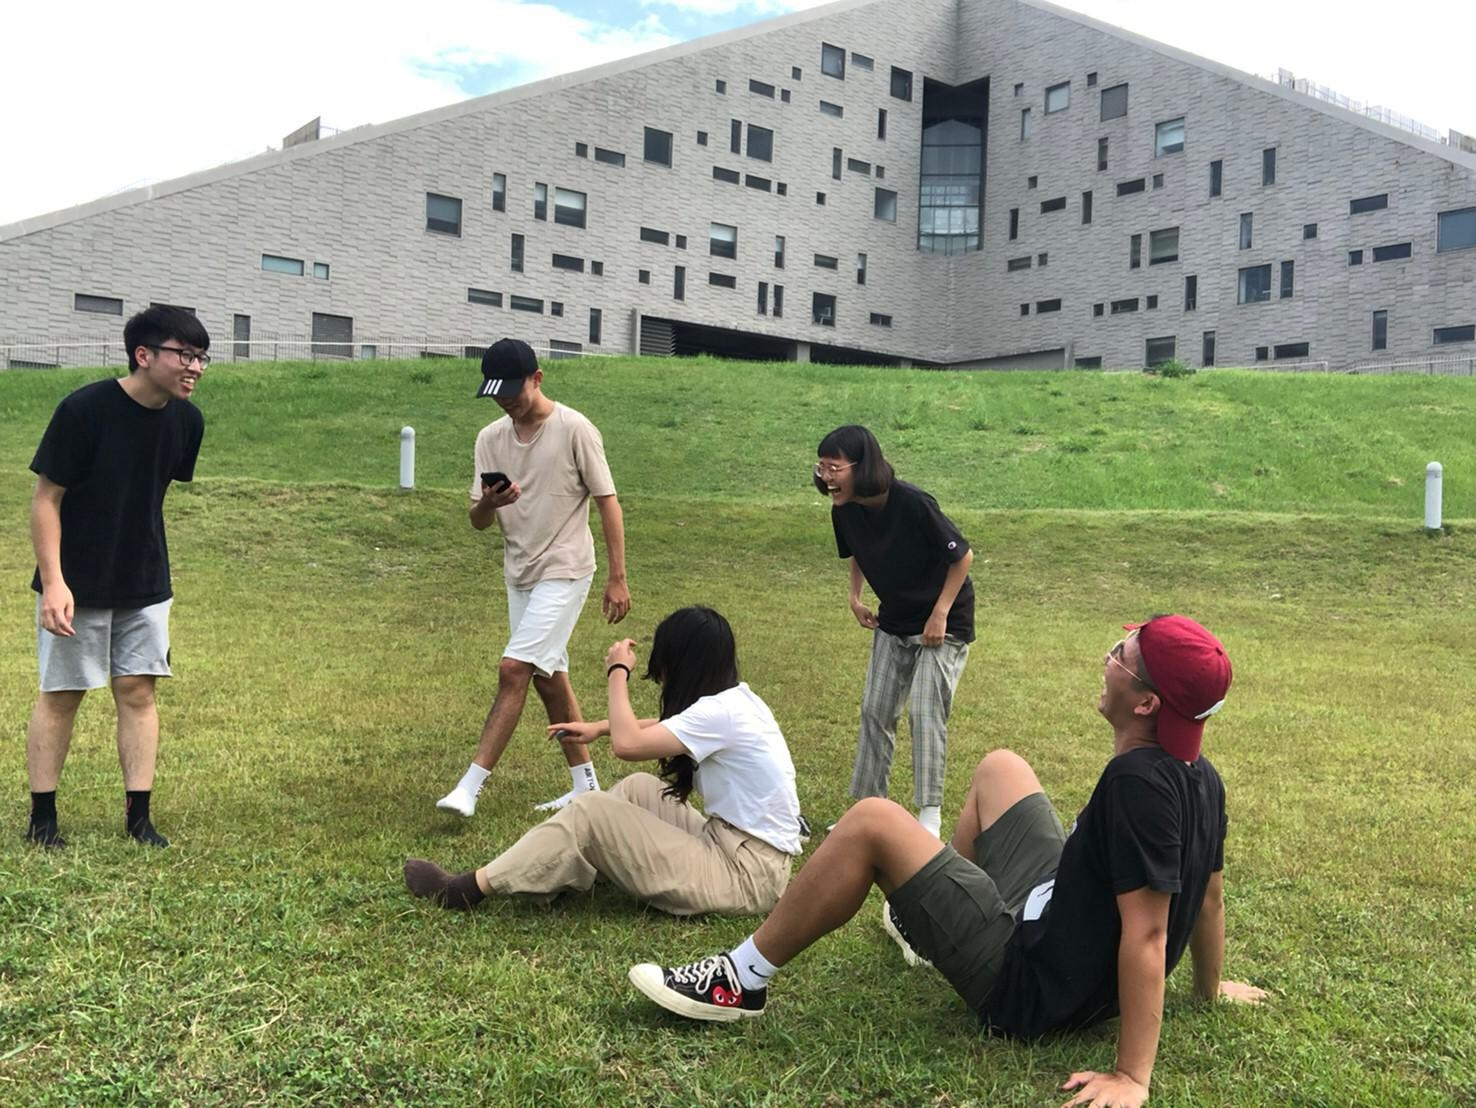people: (937, 619, 1201, 1046), (564, 611, 795, 919), (451, 340, 597, 819), (807, 430, 966, 865), (57, 313, 174, 844)
